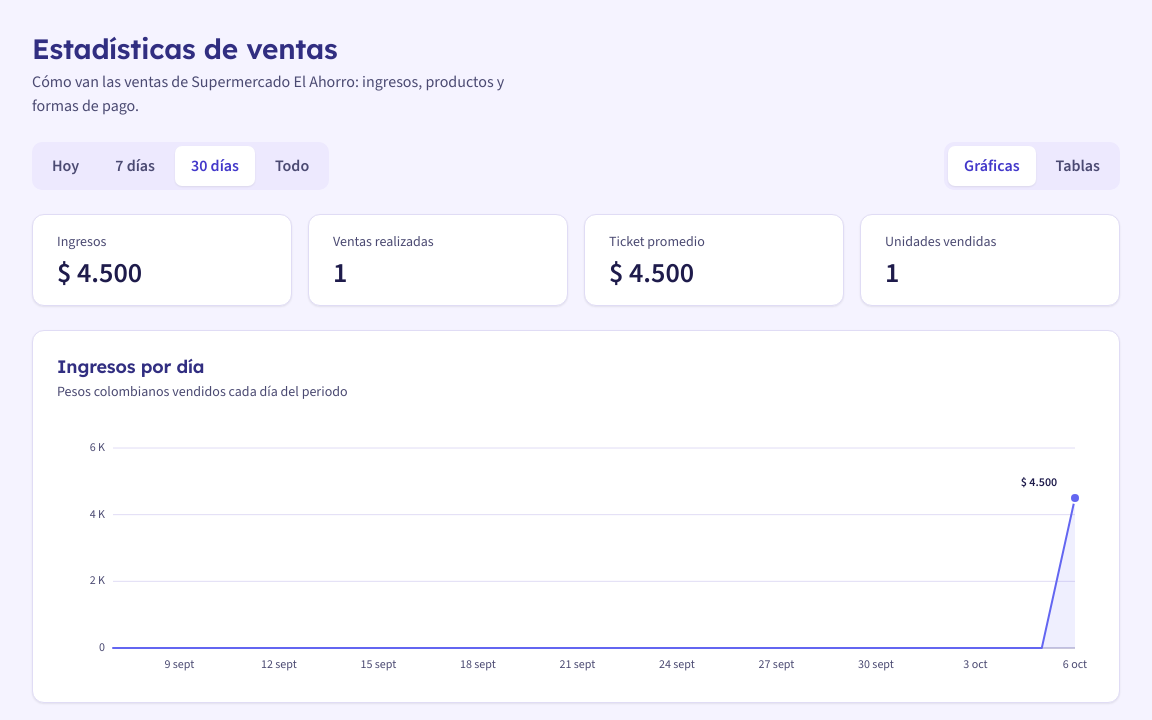
Test: DashboardVentasComponent › cambia a la vista de tablas
Click the button "Tablas": (1078, 166) [1040, 146, 1116, 186]
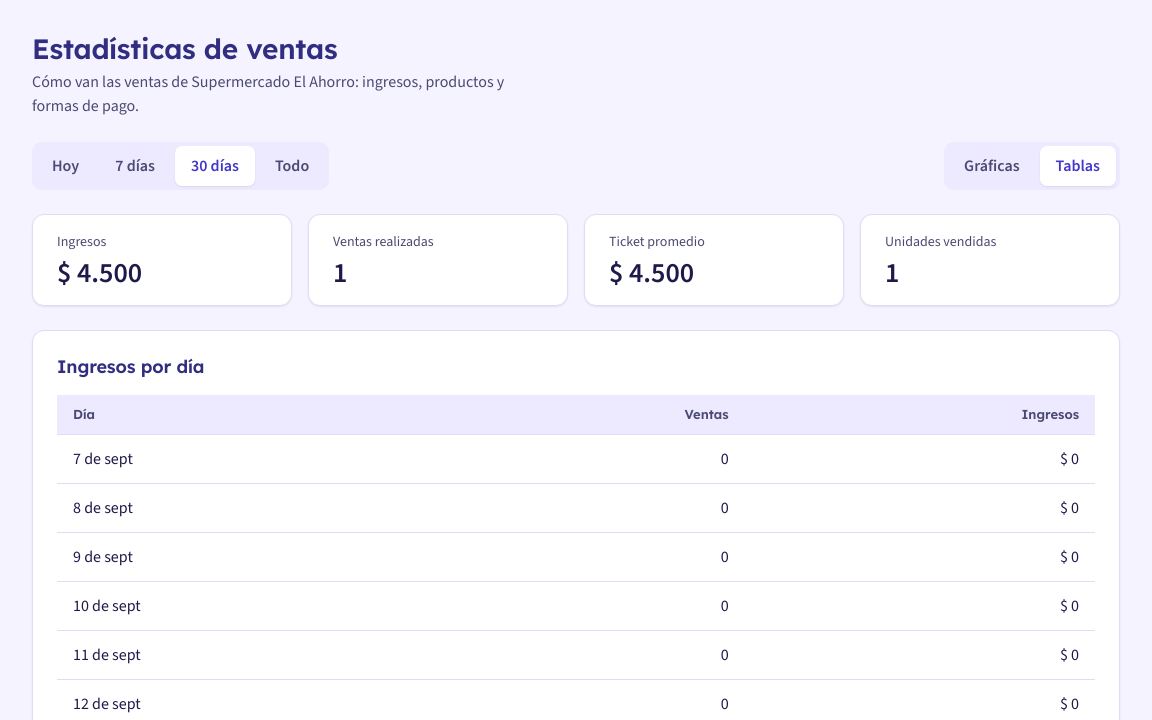
Expected: the picture is gone
